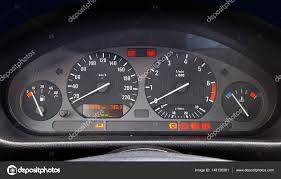Digital_Meter: (82, 103, 124, 116)
